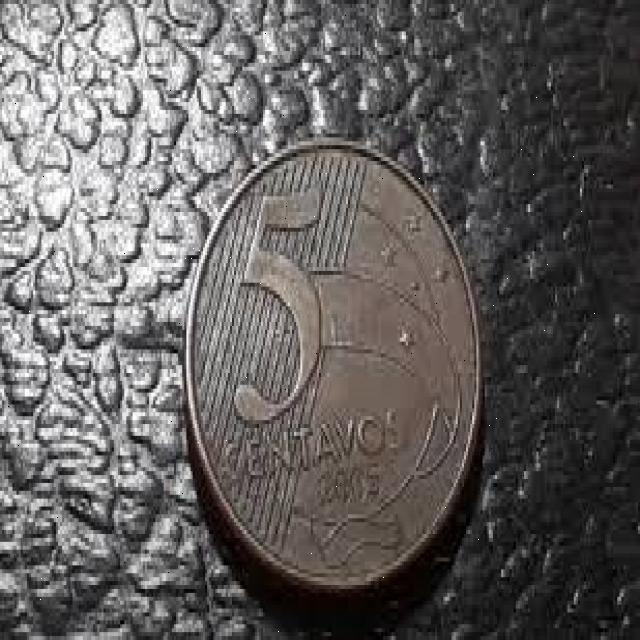5 cent: (190, 128, 480, 585)
